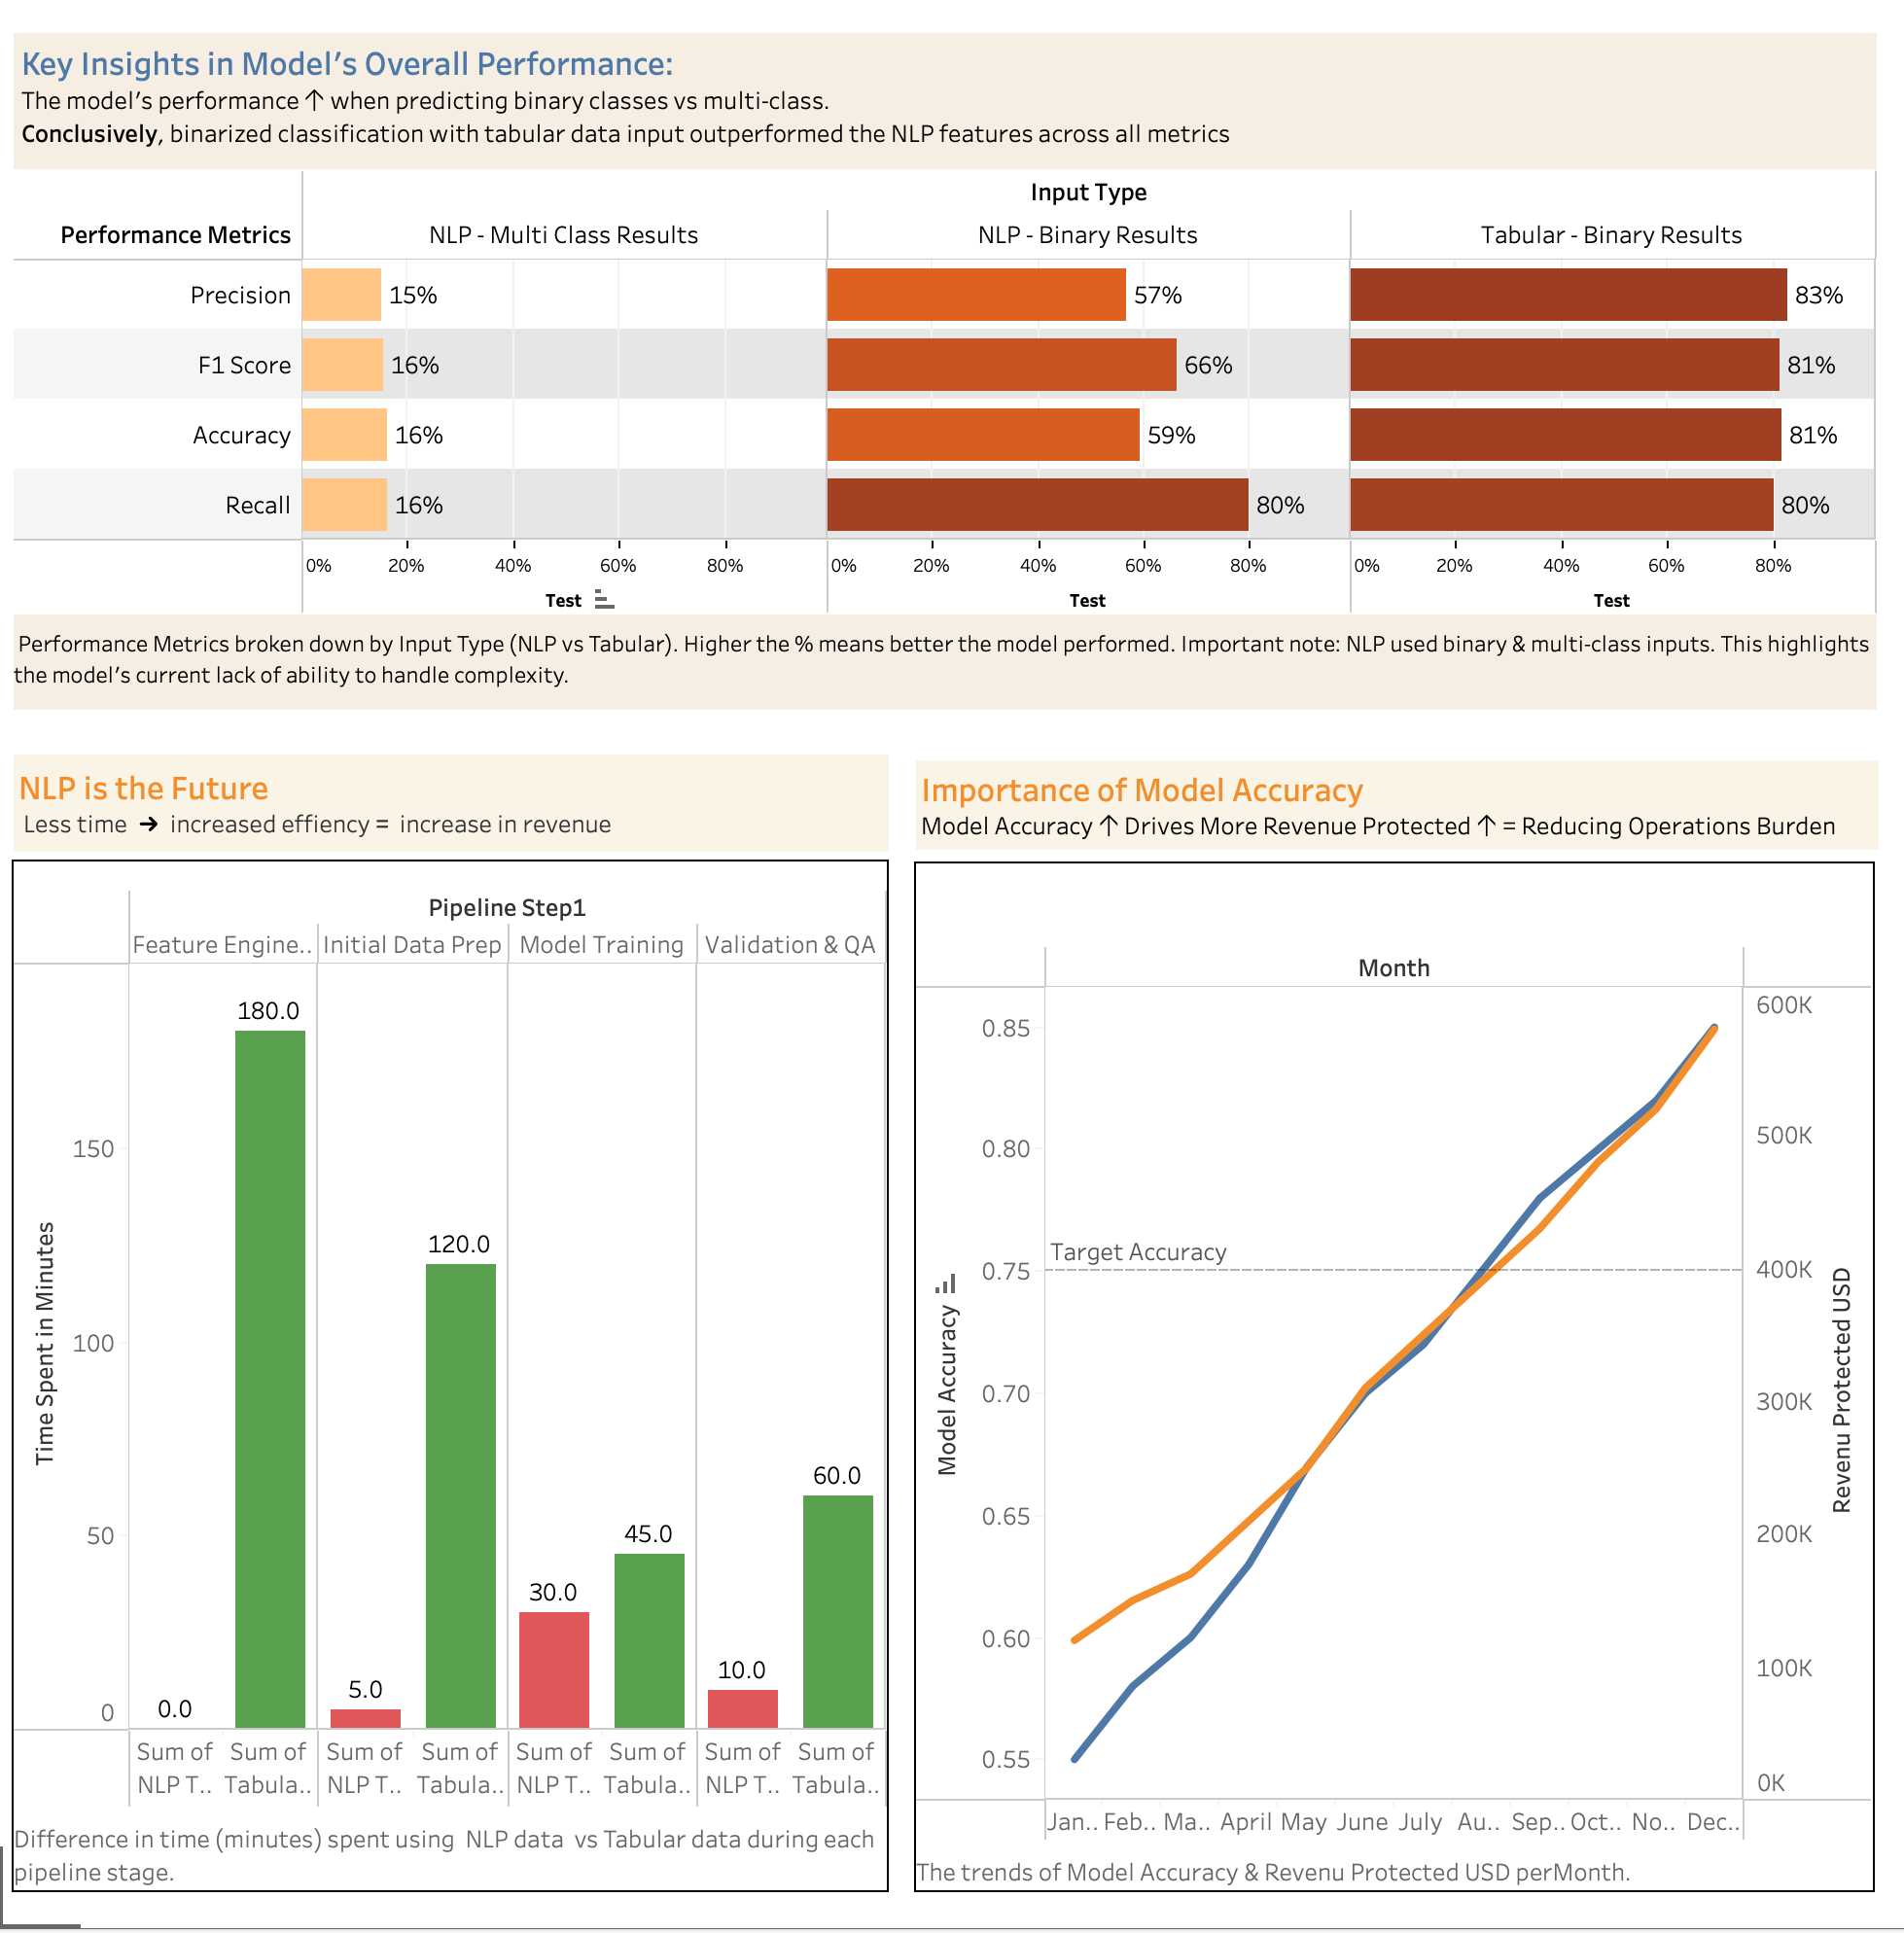

What the dashboard file says about the page in this screenshot:
{"tool":"tableau","page":{"name":"Dashboard 1","canvas":[650,860],"ordinal":0},"visuals":[{"type":"title","box":[8,8,634,42]},{"type":"worksheet","title":"Sheet 1 (2)","mark":"Automatic","rows":["Metric"],"cols":["Table Name","Test"],"box":[8,50,634,327]},{"type":"dashboard-object","param":"[com.tableau.extensions.actionEngine].[0.6.0].[tableau:/extensions/action-engine","box":[8,377,634,475]}]}

Visuals, with their boxes on the page's 650x860 design canvas (x1, y1, x2, y2). These are canvas units, not pixel positions in the 1904x1933 screenshot, which may show the page scaled, cropped or inside an application window:
title: 8:8:642:50
"Sheet 1 (2)" worksheet: 8:50:642:377
dashboard-object: 8:377:642:852
